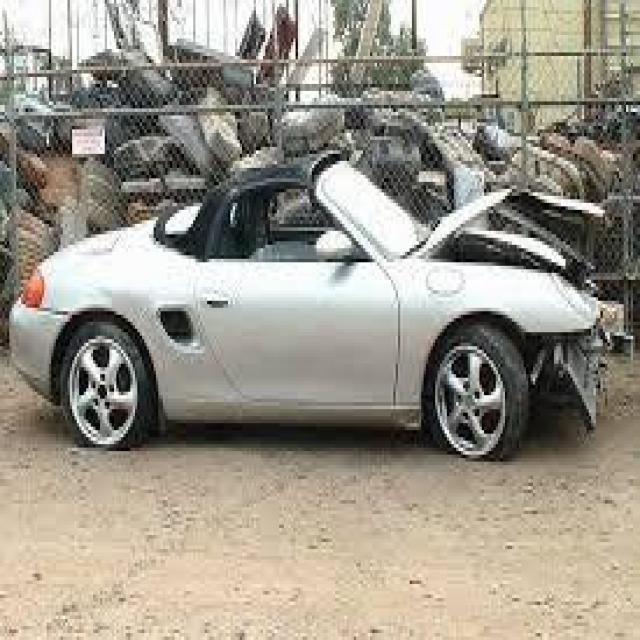damaged: (538, 308, 638, 420), (430, 216, 578, 284)
